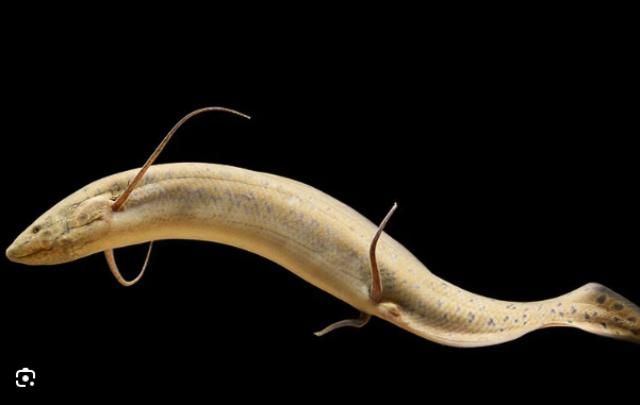Mulut: (4, 240, 68, 282)
Sirip Ekor: (546, 269, 640, 359)
